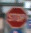stopsign: (5, 7, 26, 27)
